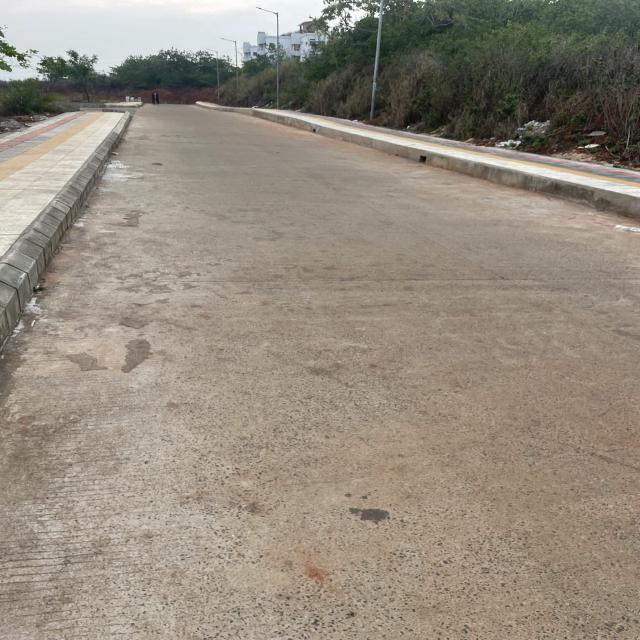D11: (202, 272, 628, 300)
D43: (90, 312, 179, 405)
